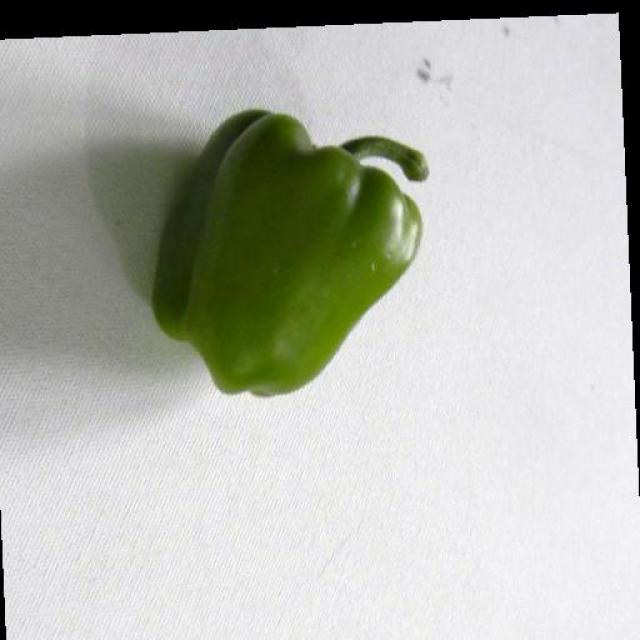Fresh_Capsicum: (171, 79, 421, 382)
